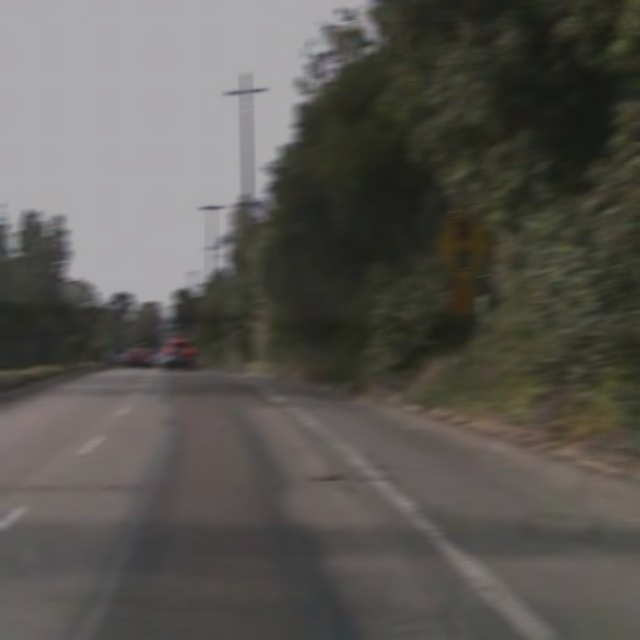signalAhead: (434, 203, 491, 285)
